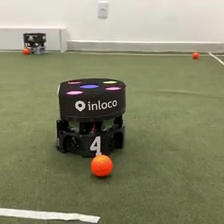ball: (88, 152, 114, 178), (191, 50, 199, 59), (23, 46, 30, 55)
goal: (1, 26, 70, 54)
robot: (53, 80, 139, 158), (21, 31, 48, 55)
